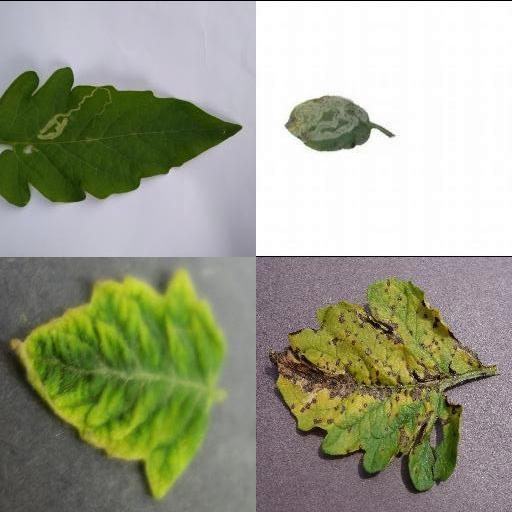Leaf Miner: (0, 64, 242, 207), (285, 92, 373, 149)
Septoria: (268, 278, 476, 489)
Yellow Leaf Curl Virus: (9, 266, 225, 500)
